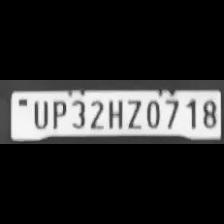0: (142, 96, 162, 128)
1: (181, 97, 199, 129)
2: (87, 97, 105, 129)
3: (68, 97, 86, 129)
7: (162, 97, 180, 129)
8: (198, 97, 218, 129)
H: (105, 97, 123, 129)
P: (49, 97, 67, 128)
U: (29, 98, 48, 128)
Z: (122, 97, 142, 129)
